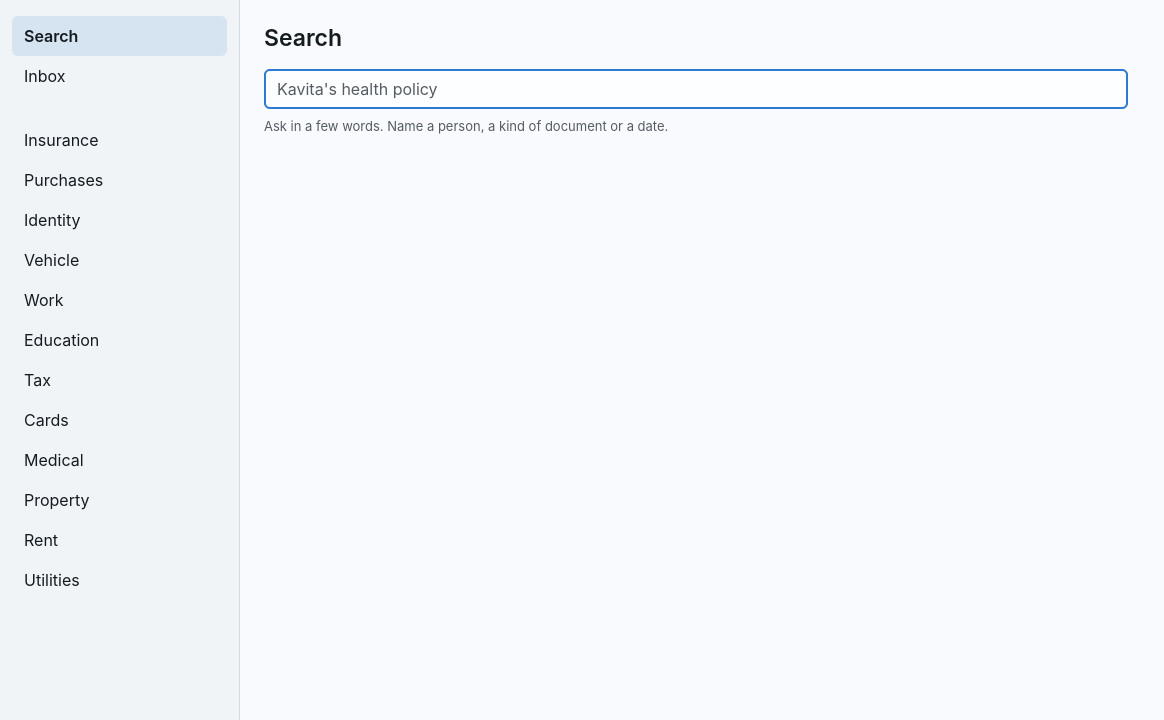
a list from a prompt › the change replaces the rows and the sentence
In the dropdown named "Ask about your documents": [696, 89] box [264, 69, 1128, 109], type "health policies that expire"
Wait 600 ms
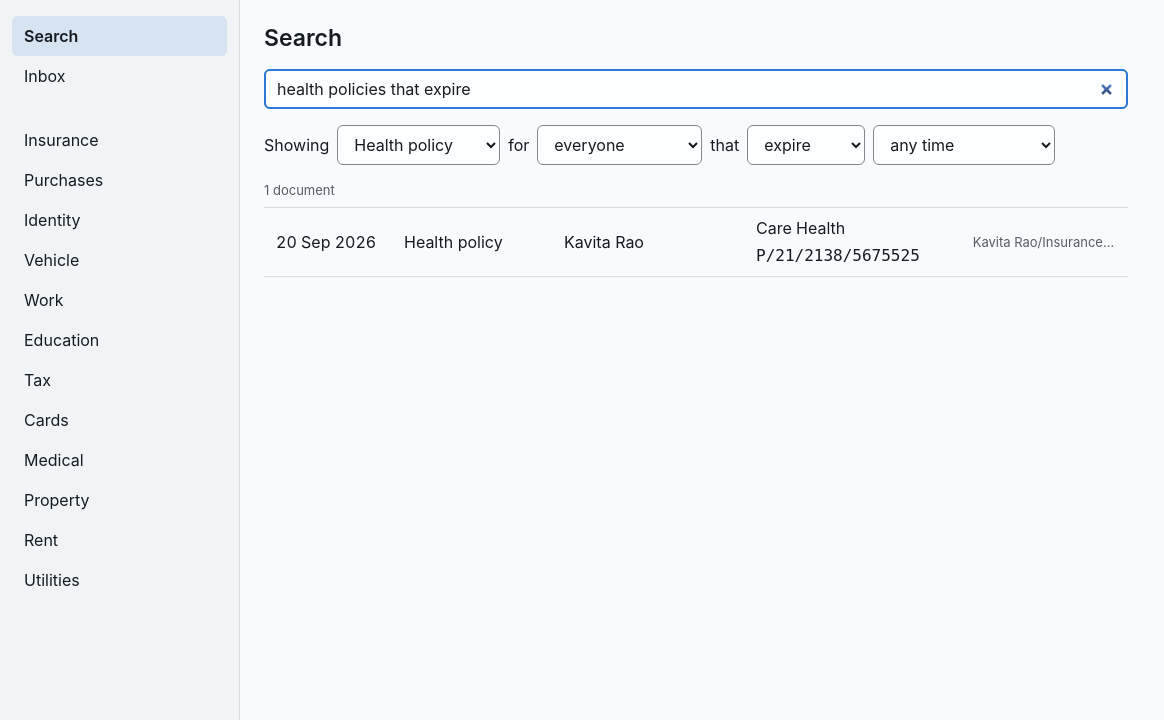
Select "Kavita Rao" in the dropdown named "Person": [620, 145] box [537, 125, 702, 165]
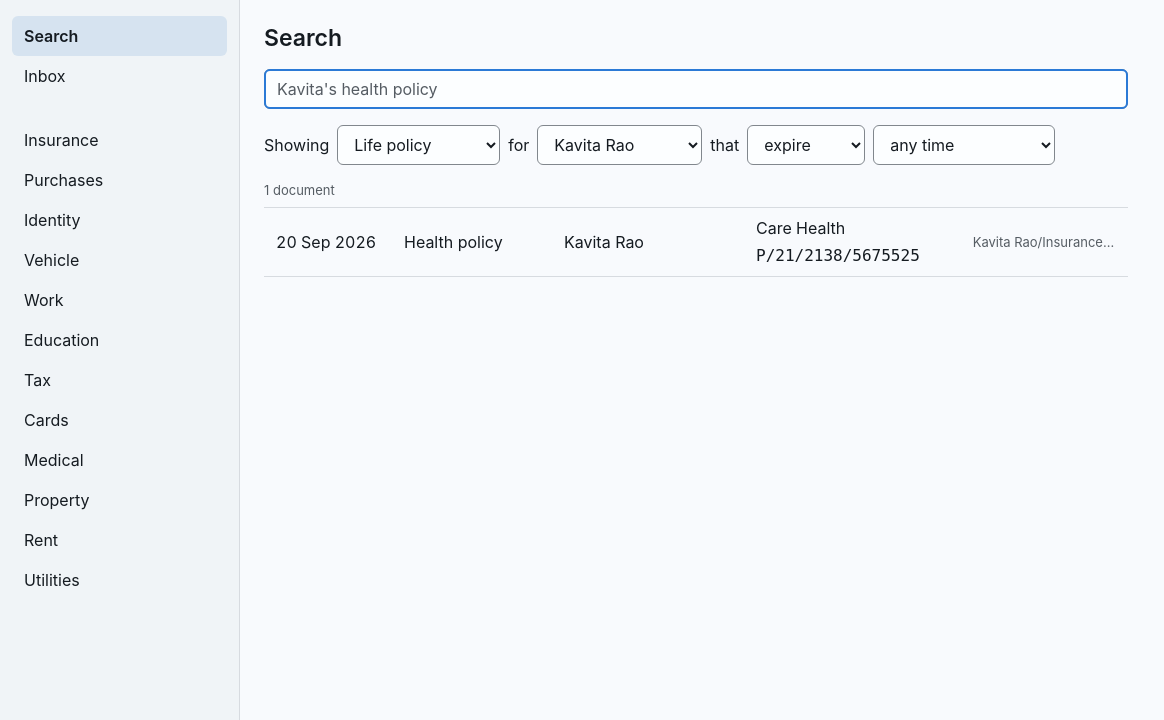
Result: the dropdown named "Kind of document" shows "Life policy" at [337, 125, 500, 165]
